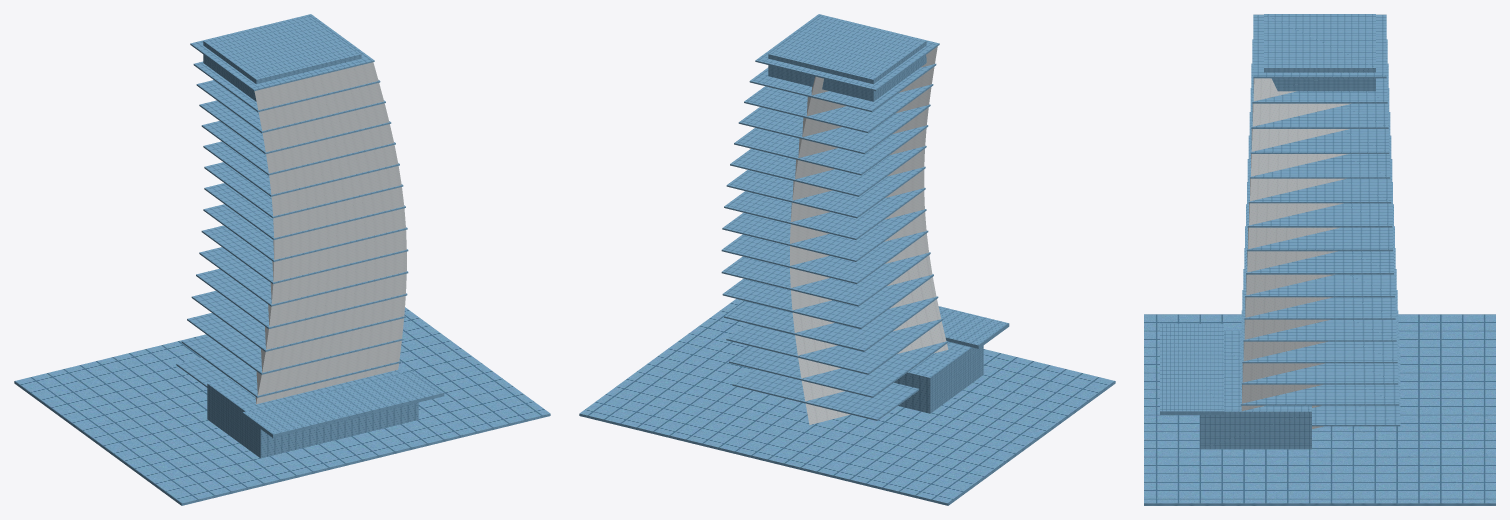
3 views of the same model, side by side, from view 1: azimuth 30°, elevation 25°; view 2: azimuth 150°, elevation 25°; view 3: azimuth 270°, elevation 25° (orthographic). The views are drawn at different scales.
Parts seen in each view (by area): view 1: 28185_01_21998_004_03_lod2__tower_mass, 28185_01_21998_004_01_lod2__plaza_base, 28185_01_21998_004_02_lod2__truss_mass, 28185_01_21998_004_04_lod2__podium; view 2: 28185_01_21998_004_02_lod2__truss_mass, 28185_01_21998_004_01_lod2__plaza_base, 28185_01_21998_004_03_lod2__tower_mass, 28185_01_21998_004_04_lod2__podium; view 3: 28185_01_21998_004_02_lod2__truss_mass, 28185_01_21998_004_01_lod2__plaza_base, 28185_01_21998_004_03_lod2__tower_mass, 28185_01_21998_004_04_lod2__podium.
Boxes of the visible parts, x1,y1,x2,y2 form: 28185_01_21998_004_03_lod2__tower_mass: (203, 15, 406, 404); 28185_01_21998_004_01_lod2__plaza_base: (14, 307, 550, 505); 28185_01_21998_004_02_lod2__truss_mass: (176, 14, 444, 437); 28185_01_21998_004_04_lod2__podium: (207, 369, 418, 458); 28185_01_21998_004_02_lod2__truss_mass: (721, 14, 1009, 420); 28185_01_21998_004_01_lod2__plaza_base: (579, 298, 1115, 505); 28185_01_21998_004_03_lod2__tower_mass: (768, 15, 948, 424); 28185_01_21998_004_04_lod2__podium: (894, 341, 983, 413); 28185_01_21998_004_02_lod2__truss_mass: (1160, 14, 1400, 426); 28185_01_21998_004_01_lod2__plaza_base: (1144, 314, 1495, 505); 28185_01_21998_004_03_lod2__tower_mass: (1241, 14, 1375, 429); 28185_01_21998_004_04_lod2__podium: (1200, 330, 1311, 449).
Size of the model in its own units: 56 by 51.1 by 44.
4 materials, 4 textured.
